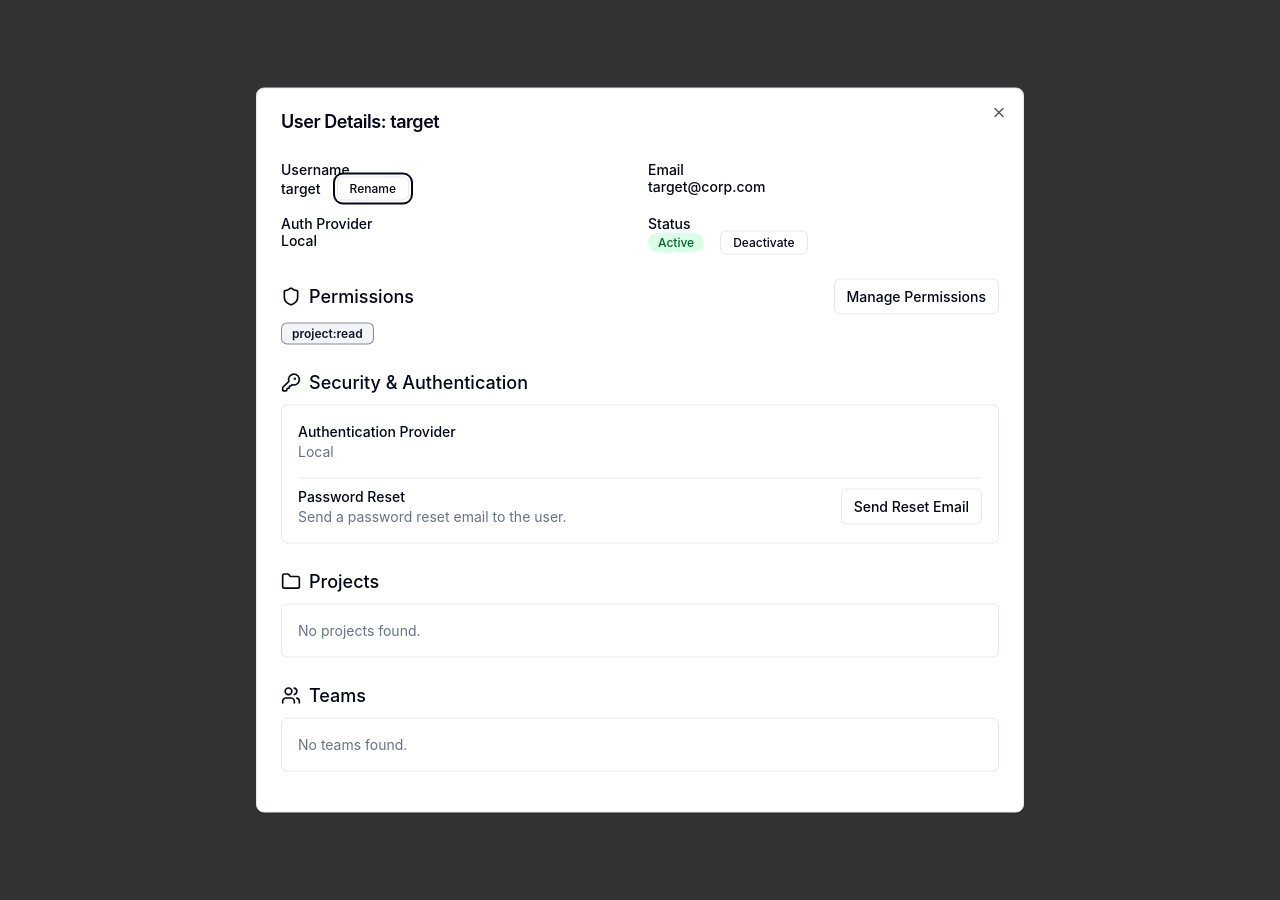
Test case: UserDetailsDialog - username › renames a user whose every permission the caller holds
Click the button "Rename": (373, 188) [337, 176, 409, 200]
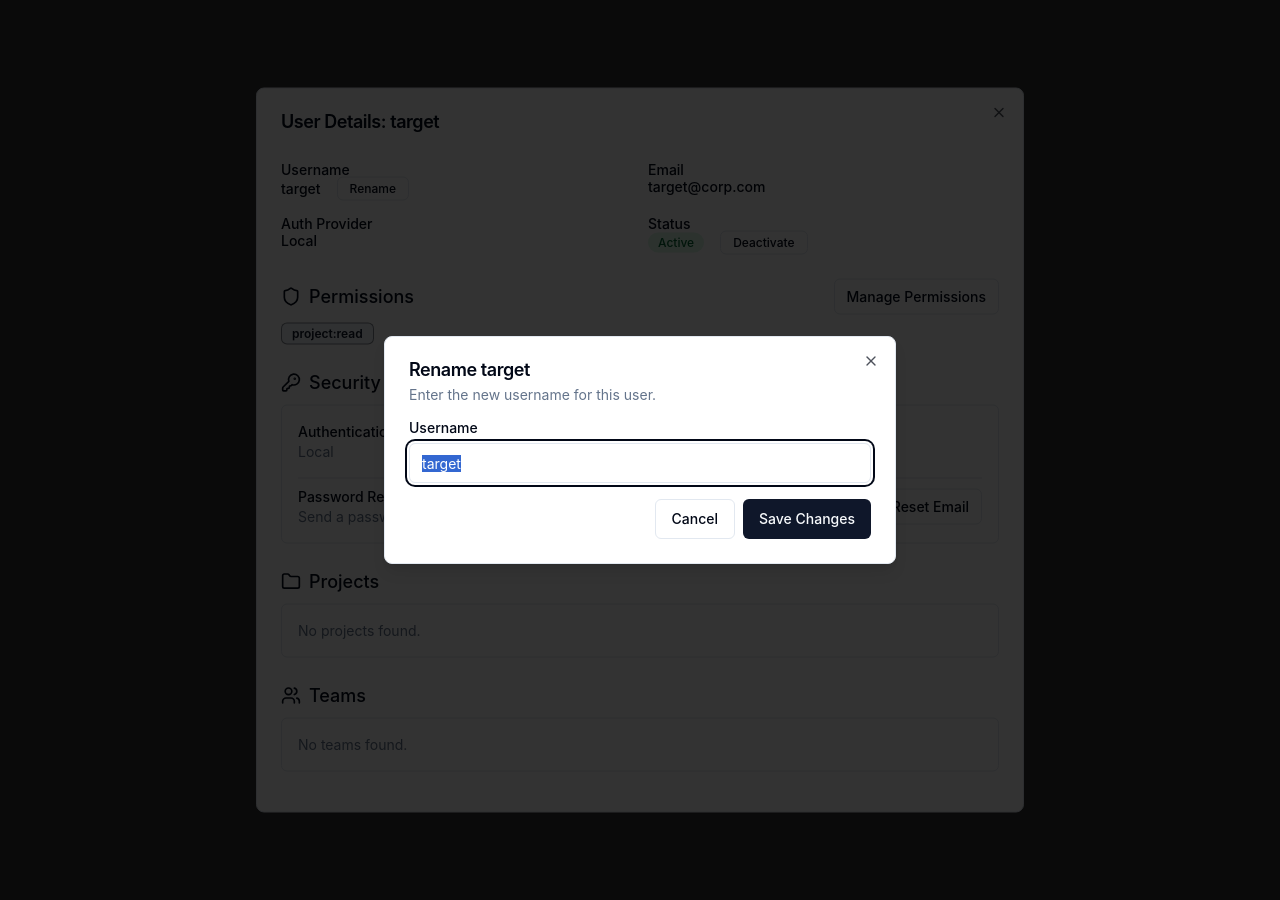
expect the field labelled "Username" holds "target": met
Replace the text in the field labelled "Username" with " target2 ": (640, 463) [409, 443, 871, 483]
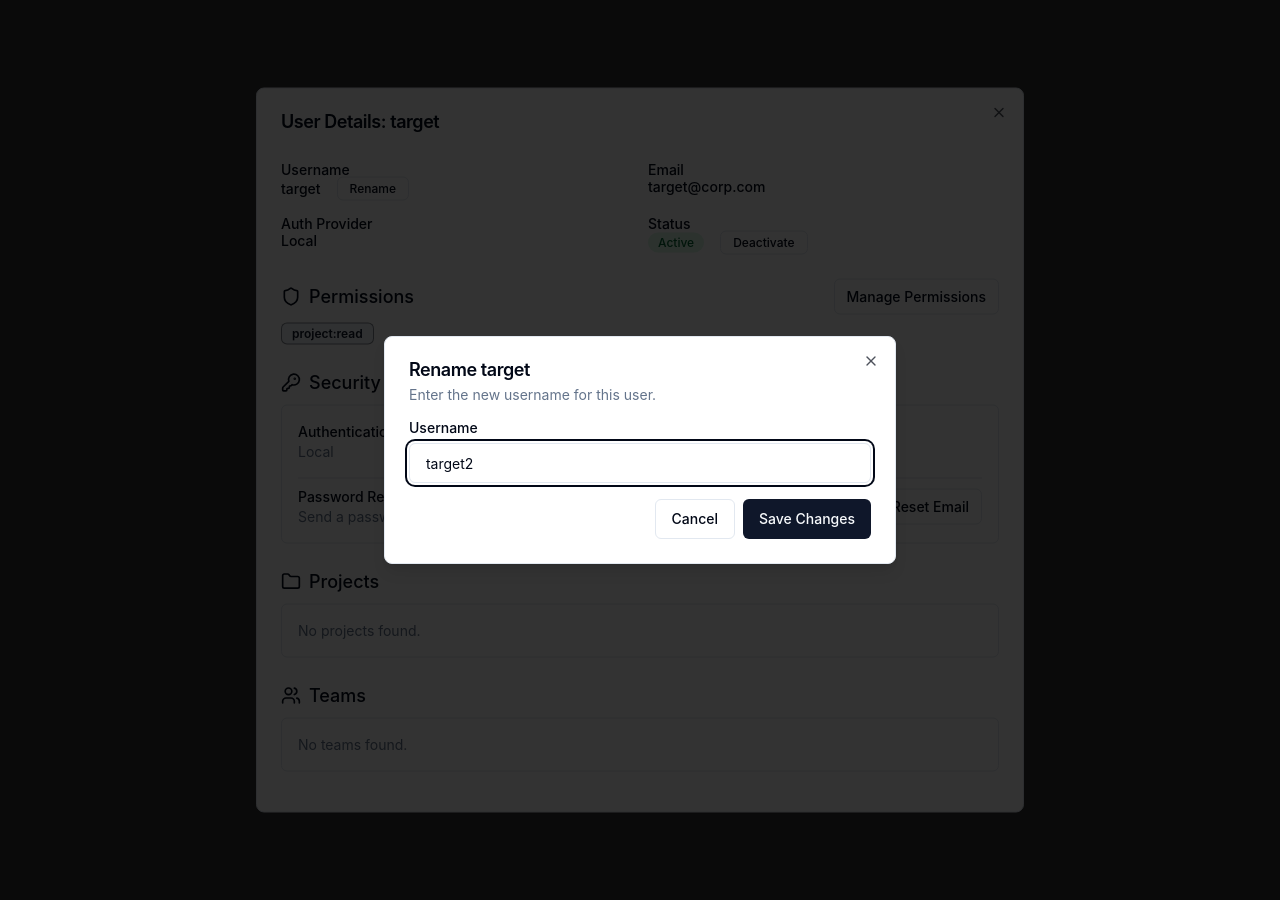
Click the button "Save Changes": (807, 519) [743, 499, 871, 539]
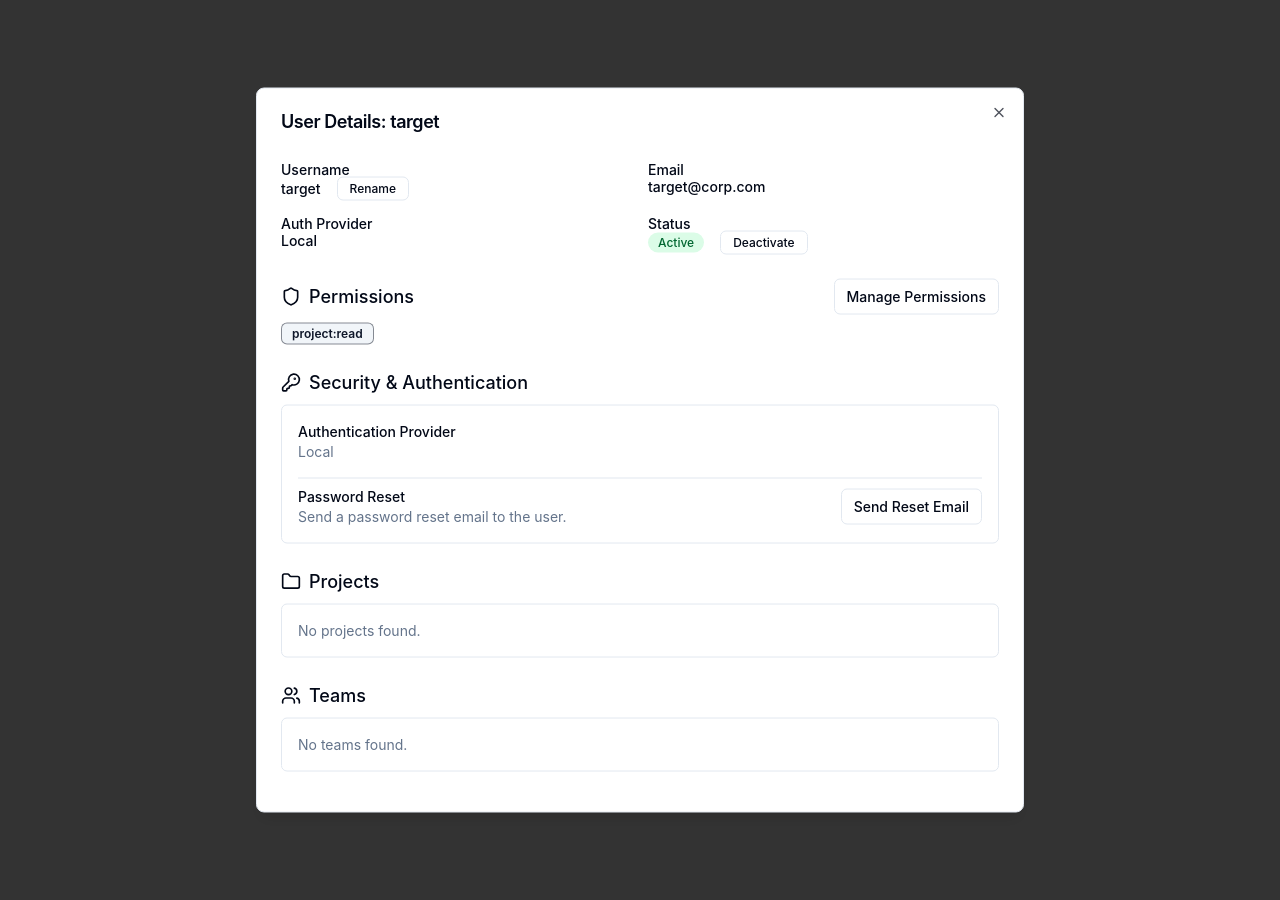
expect the heading "Rename target" is gone: met
